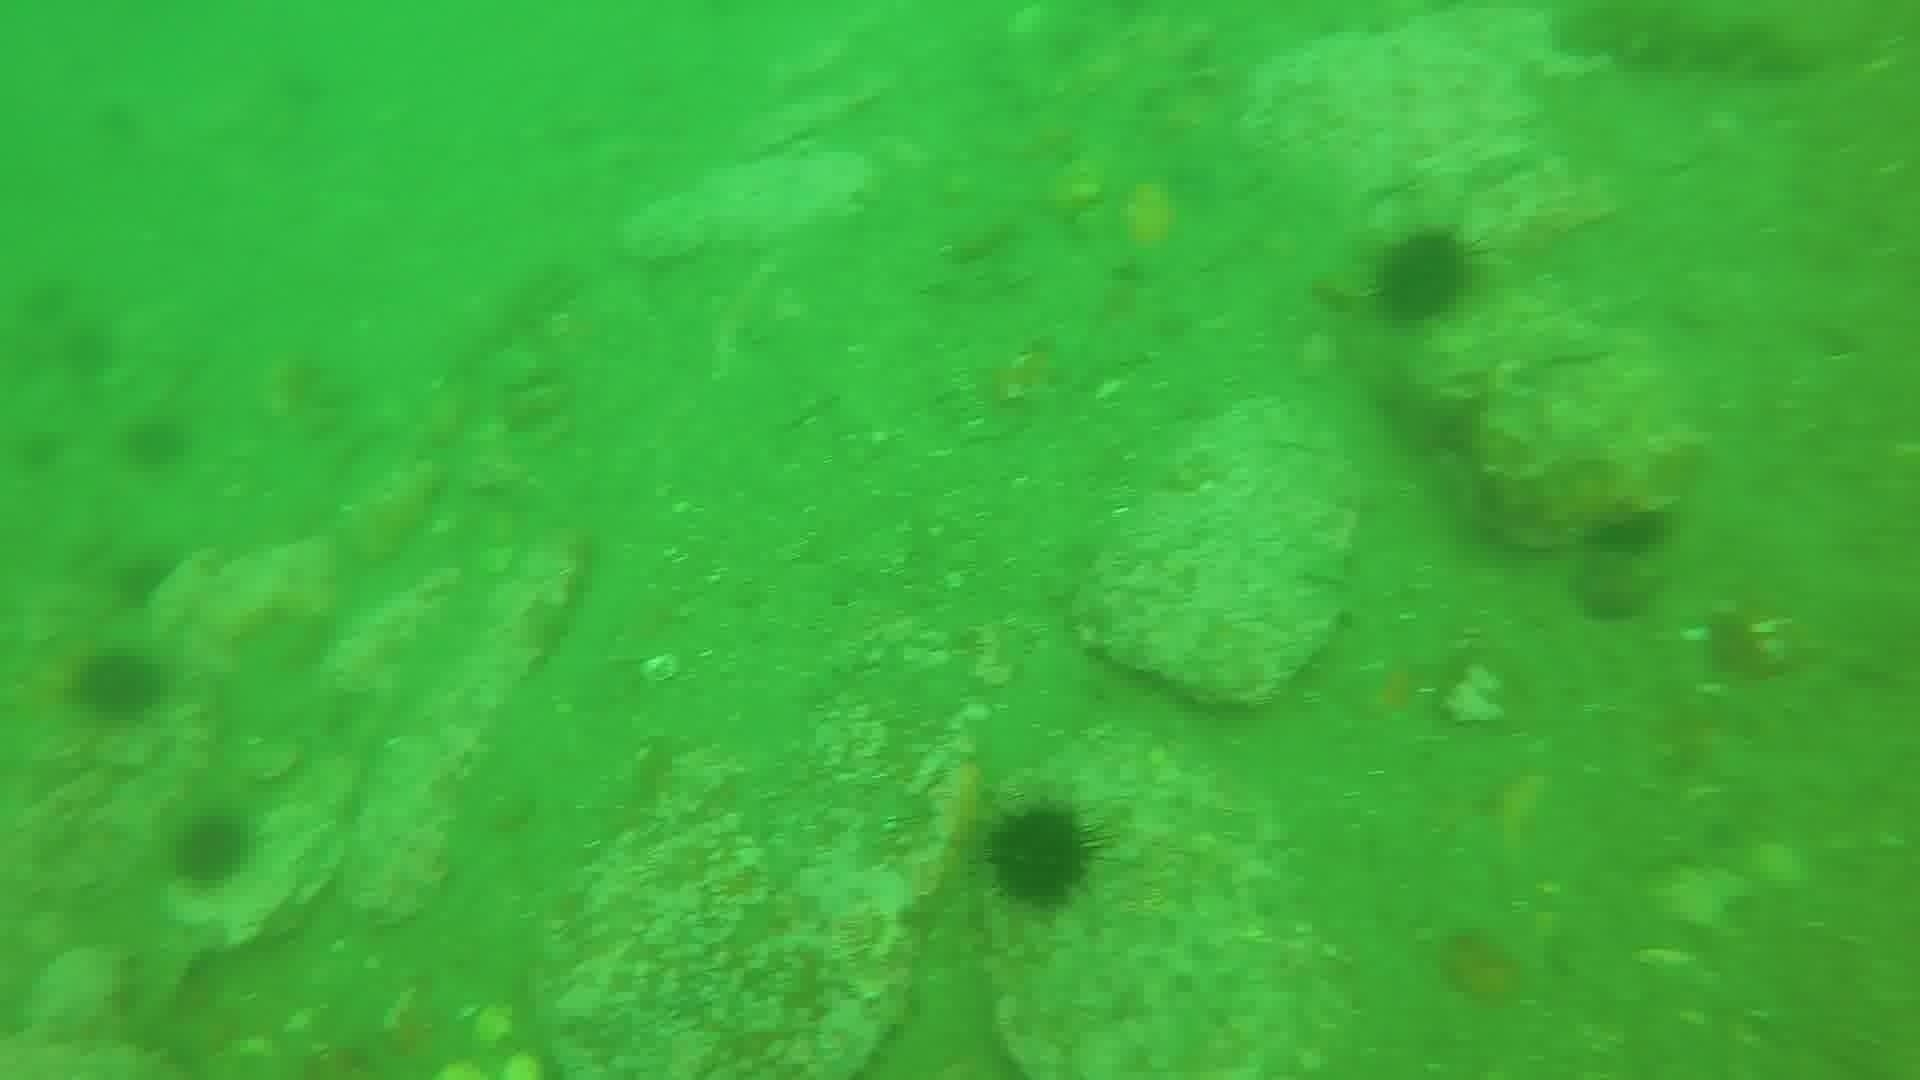echinus: (978, 798, 1104, 914), (1366, 225, 1478, 331), (67, 644, 170, 728), (166, 808, 257, 894), (1578, 504, 1667, 566), (117, 409, 194, 476), (105, 549, 179, 615)
holothurian: (1552, 3, 1825, 87)
